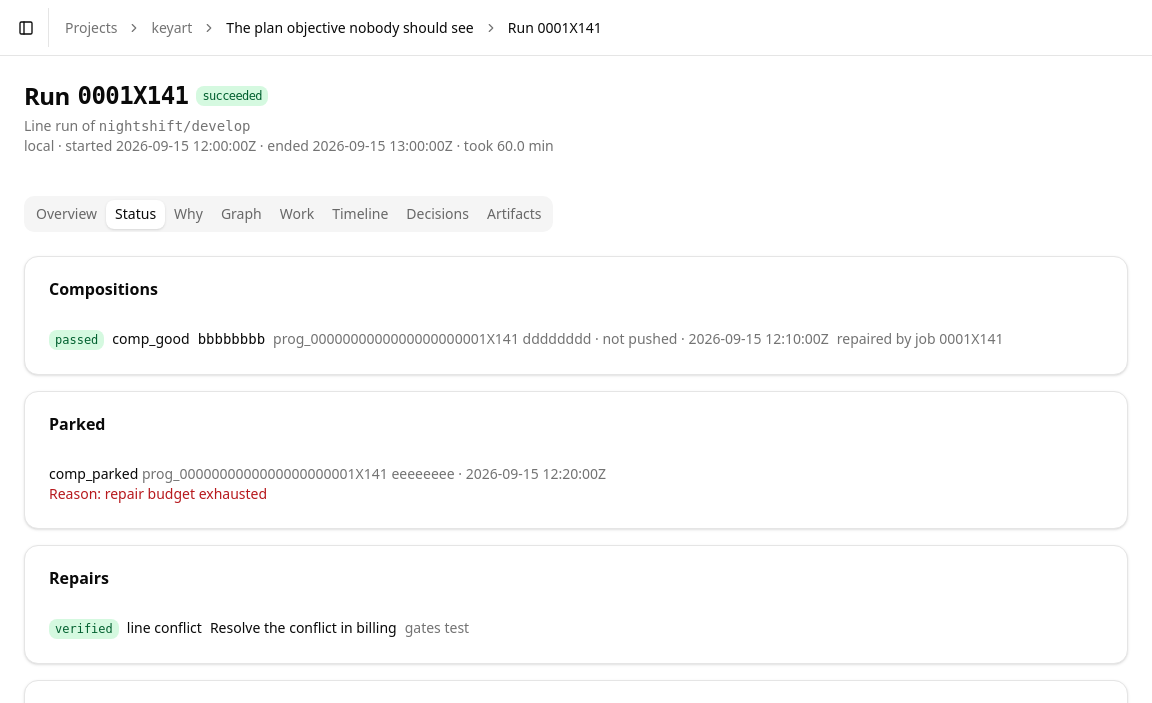
Test case: the run page › a line run › reads as compositions and repairs, not as a plan
Expected: the text "Line run of nightshift/develop" is shown, [24,116,250,135]
Expected: the heading "Compositions" is shown, [49,278,158,300]
Click the tab "Work" at (297, 214), box [271,200,323,228]
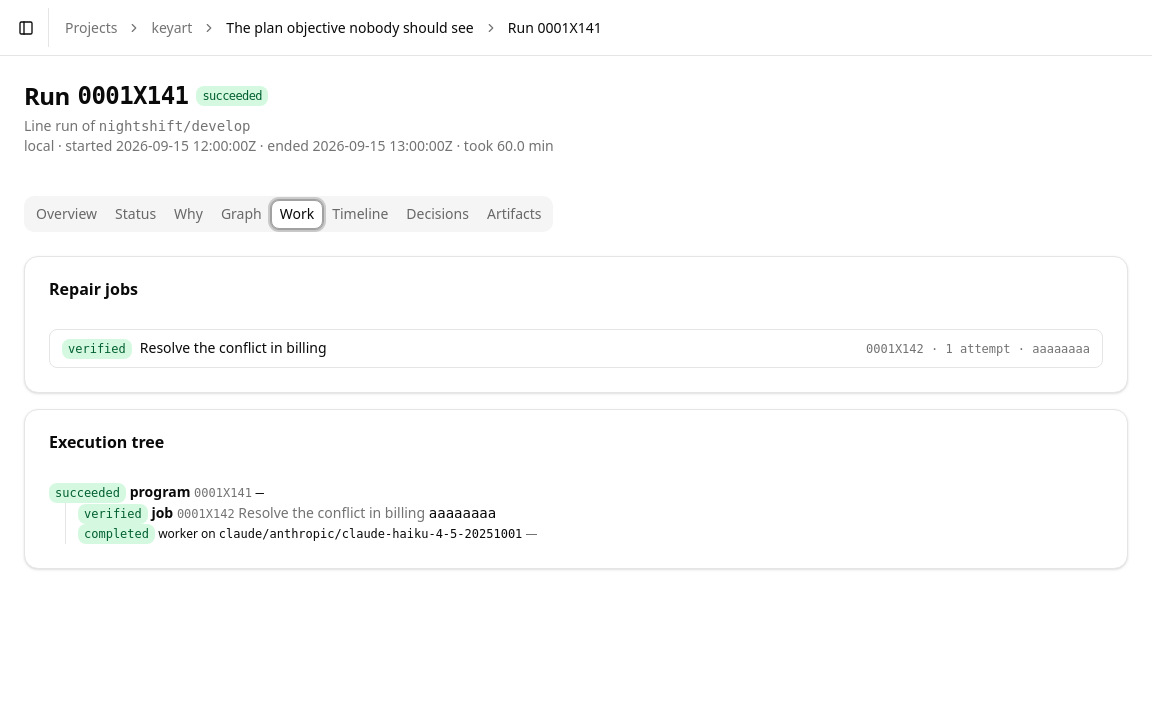
Result: the heading "Repair jobs" is shown at [49,278,138,300]
Click the button "Resolve the conflict in billing" at (97, 349), box [49,329,1103,368]
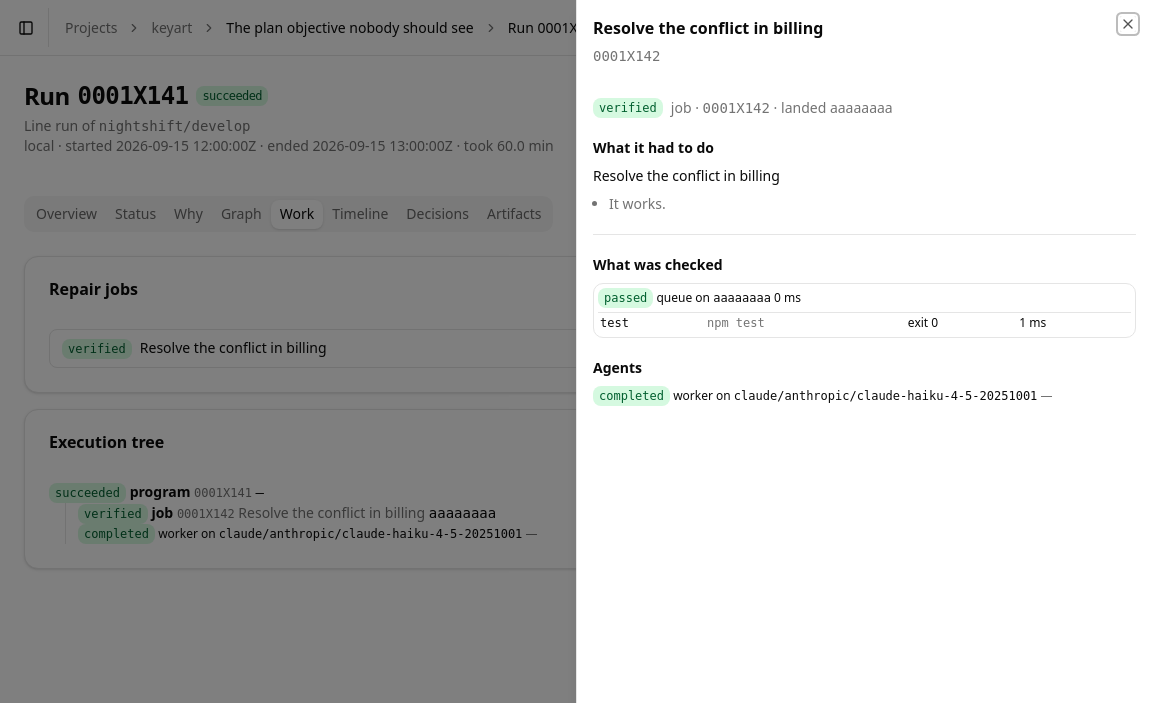
Result: the text "claude/anthropic/claude-haiku-4-5-20251001" is shown at [734,389,1037,403]
Press Escape
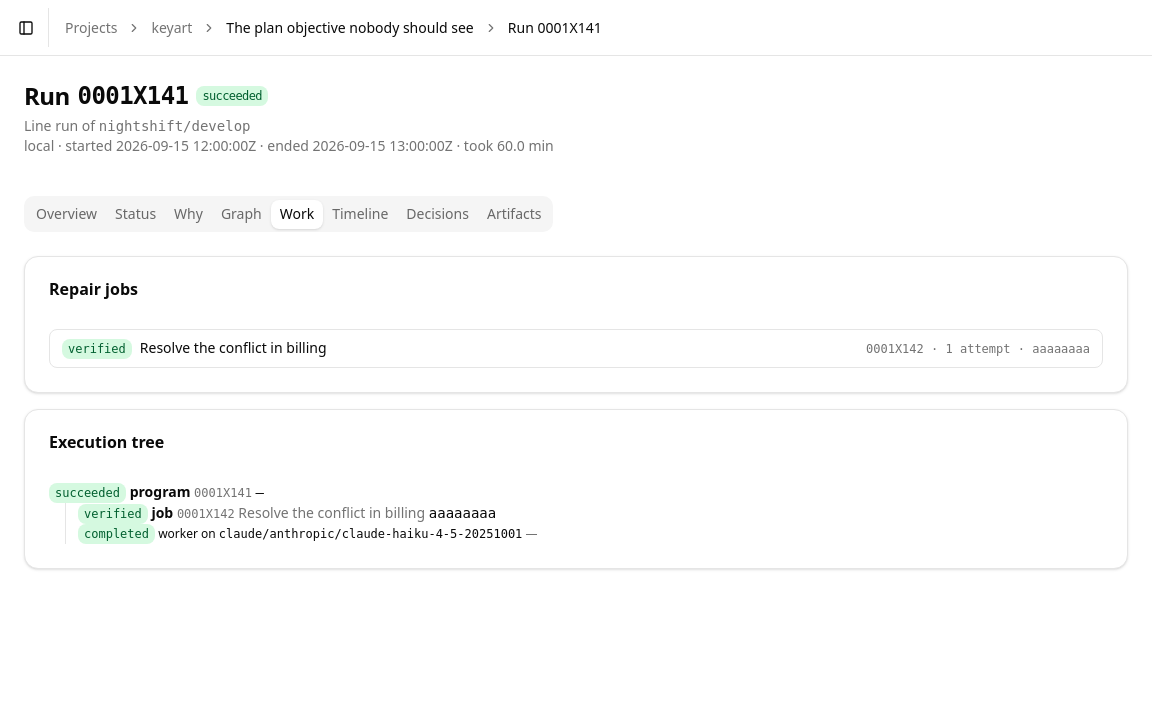
Click the tab "Why" at (188, 214), box [165,200,212,228]
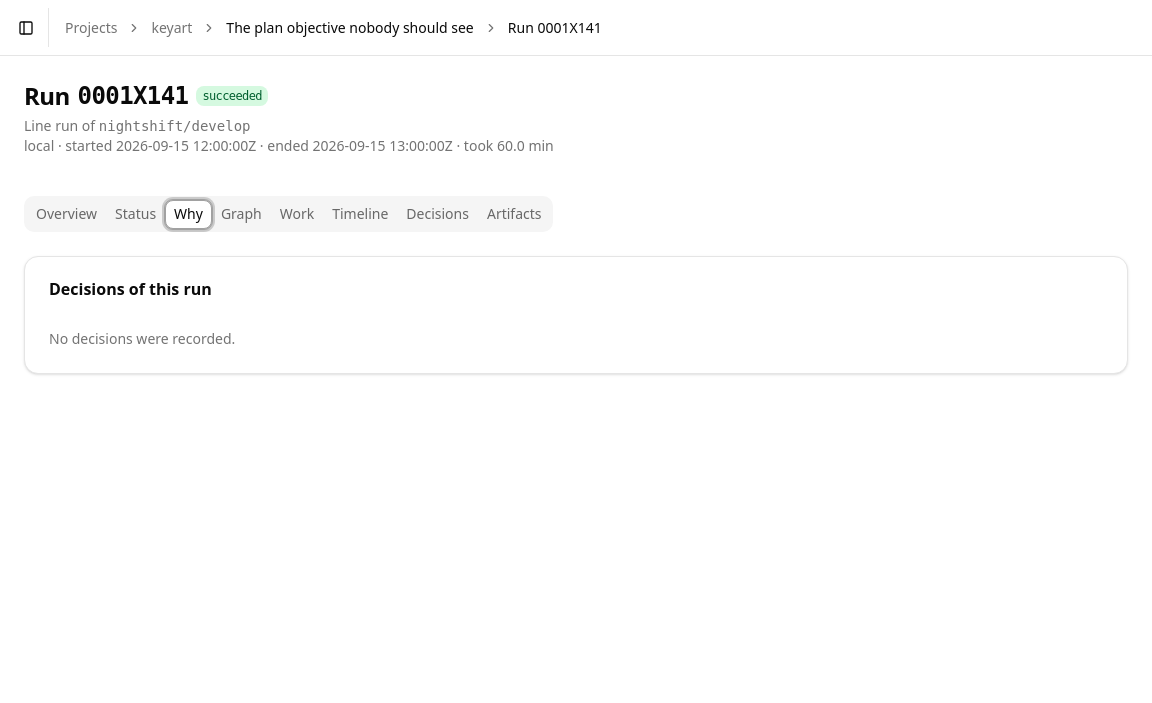
Result: the heading "Decisions of this run" is shown at [49,278,212,300]
